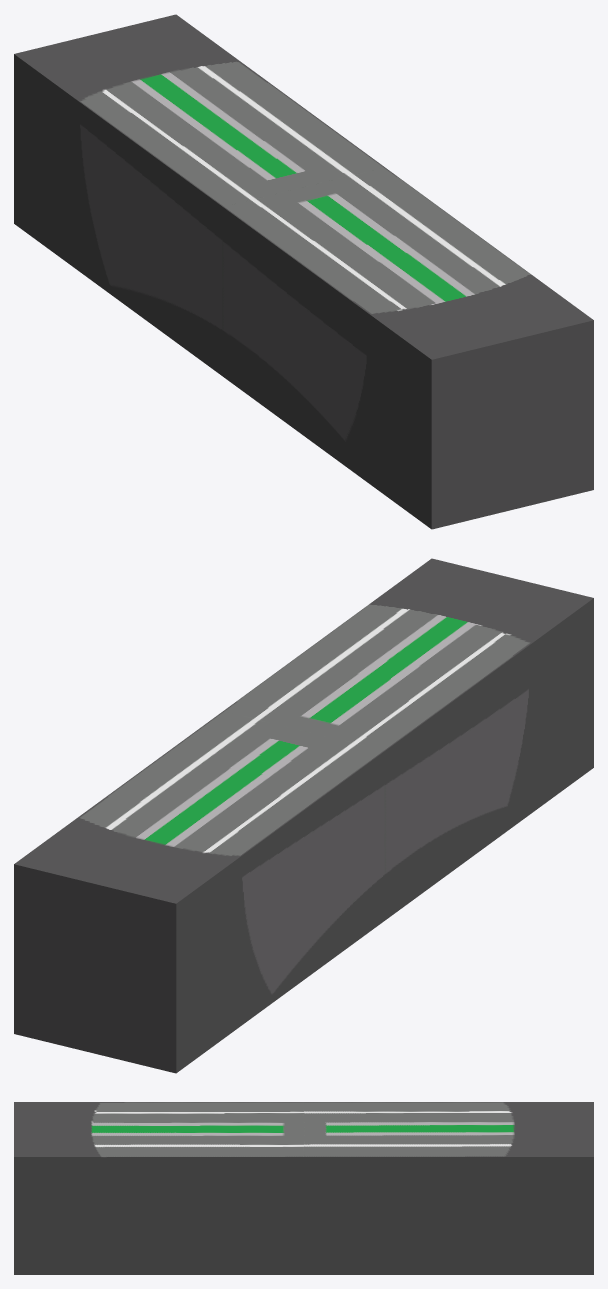
The model's file is タイトルなし.fbx.
3 renders of one model, top to bottom at view 1: azimuth 30°, elevation 25°; view 2: azimuth 150°, elevation 25°; view 3: azimuth 270°, elevation 25°, orthographic. The views are drawn at different scales.
Parts seen in each view (by area): view 1: node_id8, node_id6; view 2: node_id6, node_id8; view 3: node_id6, node_id8.
Part boxes in pixels (<box>): node_id8: <box>223,167,593,529</box>; node_id6: <box>14,14,384,376</box>; node_id6: <box>14,711,384,1073</box>; node_id8: <box>223,558,593,920</box>; node_id6: <box>304,1102,593,1274</box>; node_id8: <box>14,1102,303,1274</box>.
Size of the model in its own units: 0.5119 by 0.512 by 2.28.
2 materials, 2 textured.
